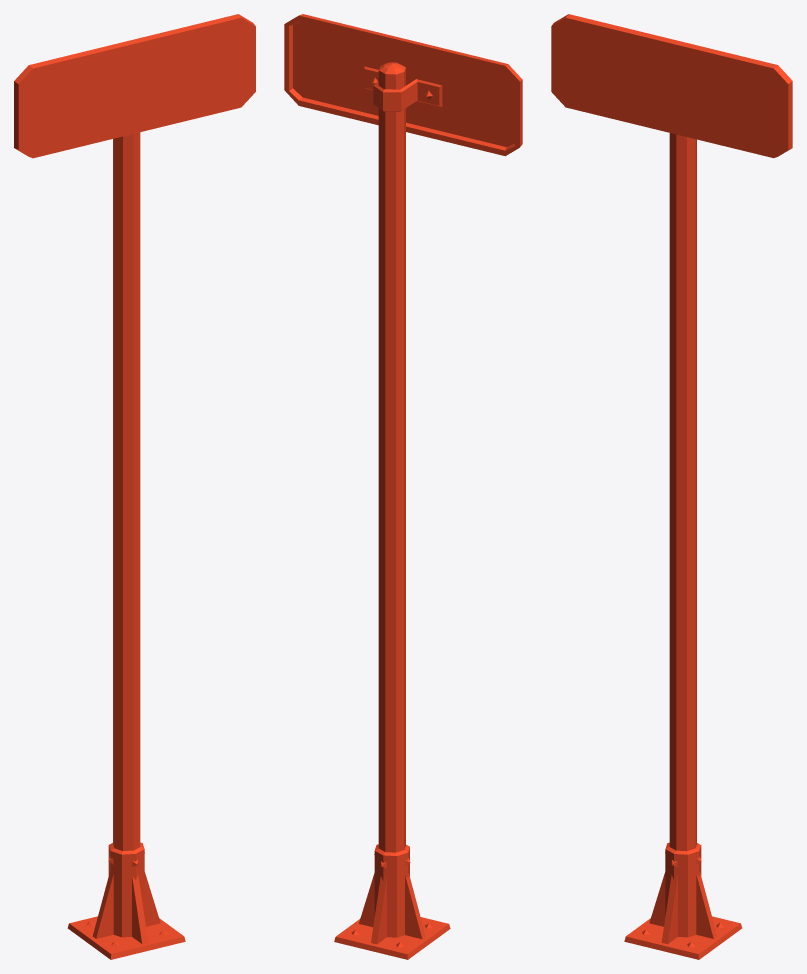
The model's file is SM_Sign_School_B_City.fbx.
3 renders of one model, left to right at view 1: azimuth 30°, elevation 25°; view 2: azimuth 150°, elevation 25°; view 3: azimuth 330°, elevation 25°, orthographic.
Visible parts, largest first — view 1: SM_Sign_School_B_City; view 2: SM_Sign_School_B_City; view 3: SM_Sign_School_B_City.
Boxes of the visible parts, x1,y1,x2,y2 form: SM_Sign_School_B_City: [14, 14, 255, 959]; SM_Sign_School_B_City: [284, 14, 522, 959]; SM_Sign_School_B_City: [551, 14, 792, 959].
Bounding box in the file's own units: 0.5866 × 2.12 × 0.1839.
